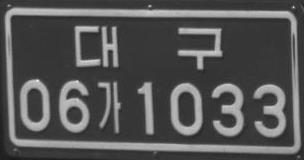0: (169, 81, 203, 135), (19, 78, 50, 131)
1: (132, 81, 162, 134)
3: (211, 82, 246, 137), (253, 83, 287, 137)
6: (58, 79, 90, 133)
가: (97, 80, 121, 133)
대구_D: (73, 24, 222, 70)
